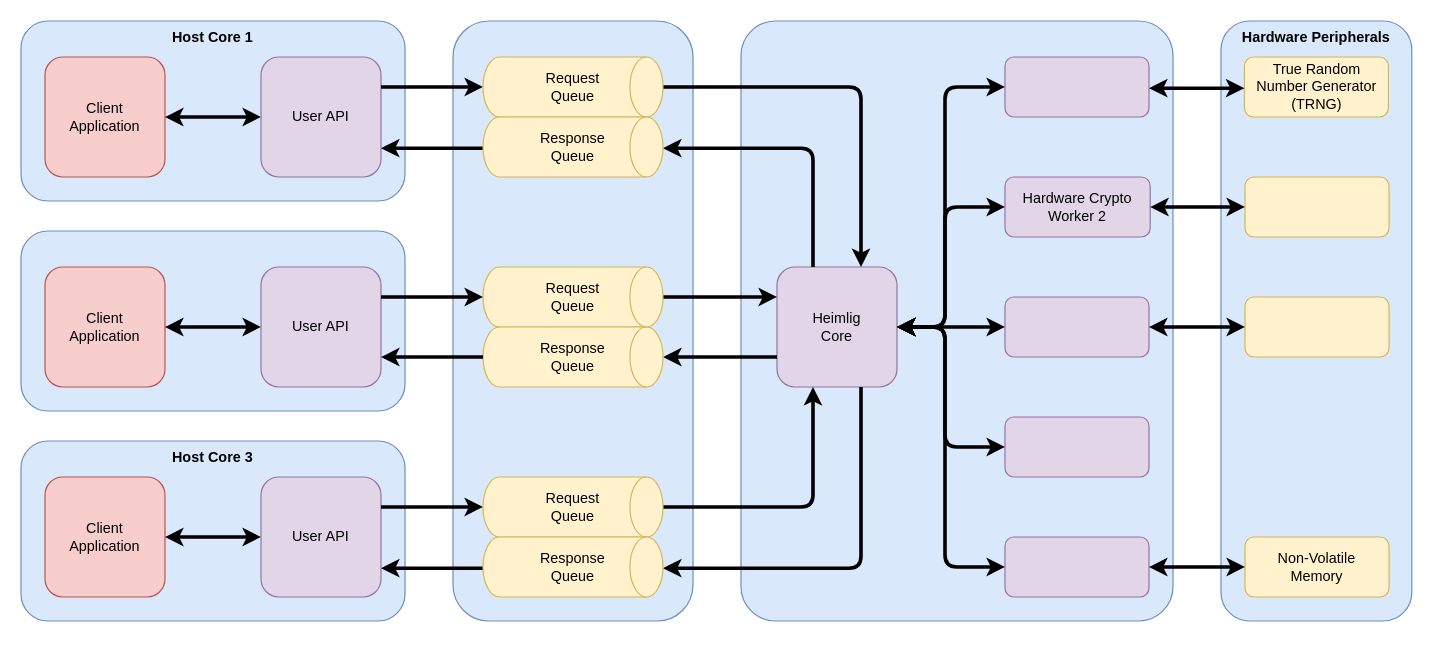
Image size: 1433x654. Some labels were removed from this diagram. The shapes that lost their labels are listed below. From the top down, each one's box as (x1, y1, x2, y2) in pixels, then its label:
(1004, 56, 1149, 117): Hardware Crypto Worker 1
(1244, 176, 1389, 237): AES Engine
(20, 230, 405, 411): Host Core 2
(452, 20, 693, 621): Shared Memory
(740, 20, 1173, 621): HSM Core
(1004, 296, 1149, 357): Hardware Crypto Worker 3
(1244, 296, 1389, 357): ECC Engine
(1004, 416, 1149, 477): Software Crypto Worker
(1004, 536, 1149, 597): Key Store
